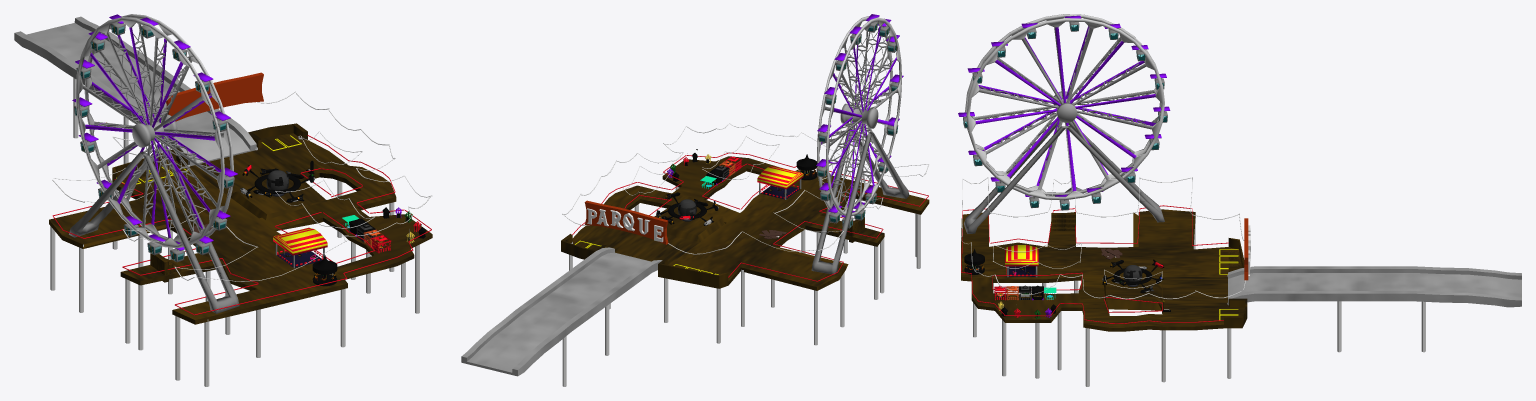
Rendered from ParqueDeDiversões.fbx.
3 views of the same model, side by side, from view 1: azimuth 30°, elevation 25°; view 2: azimuth 150°, elevation 25°; view 3: azimuth 270°, elevation 25° (orthographic). The views are drawn at different scales.
Parts seen in each view (by area): view 1: EstruturaFisicaTopo, RodaGigante_RodaLOD0, EstruturaFisica, Pilares, RodaGigante,ParteFixa, CercaDeproteção, Fiacao, CarrinhoBateBate, Brinquedo_FogueteLOD0, Carrossel; view 2: EstruturaFisicaTopo, EstruturaFisica, RodaGigante_RodaLOD0, Pilares, RodaGigante,ParteFixa, Fiacao, CercaDeproteção, CarrinhoBateBate, Parque, Brinquedo_FogueteLOD0; view 3: EstruturaFisicaTopo, RodaGigante_RodaLOD0, EstruturaFisica, RodaGigante,ParteFixa, Pilares, Fiacao, CercaDeproteção, CarrinhoBateBate, Brinquedo_FogueteLOD0.
Boxes of the visible parts, x1,y1,x2,y2 form: EstruturaFisicaTopo: (26,23,432,319); RodaGigante_RodaLOD0: (72,14,237,262); EstruturaFisica: (14,16,432,324); Pilares: (50,78,419,386); RodaGigante,ParteFixa: (69,146,239,313); CercaDeproteção: (52,135,431,315); Fiacao: (52,91,431,281); CarrinhoBateBate: (273,227,327,268); Brinquedo_FogueteLOD0: (247,169,309,197); Carrossel: (312,255,337,286); EstruturaFisicaTopo: (467,156,928,372); EstruturaFisica: (461,168,929,376); RodaGigante_RodaLOD0: (816,14,903,228); Pilares: (562,186,920,386); RodaGigante,ParteFixa: (811,129,909,274); Fiacao: (562,123,929,254); CercaDeproteção: (572,152,928,281); CarrinhoBateBate: (757,166,803,199); Parque: (587,208,663,242); Brinquedo_FogueteLOD0: (660,196,713,221); EstruturaFisicaTopo: (961,209,1521,327); RodaGigante_RodaLOD0: (958,14,1170,210); EstruturaFisica: (961,212,1521,331); RodaGigante,ParteFixa: (964,120,1164,233); Pilares: (973,218,1425,386); Fiacao: (961,177,1245,299); CercaDeproteção: (961,205,1228,323); CarrinhoBateBate: (1005,245,1038,277); Brinquedo_FogueteLOD0: (1106,264,1157,288).
Size of the model in its own units: 13707 by 14094 by 26919.
